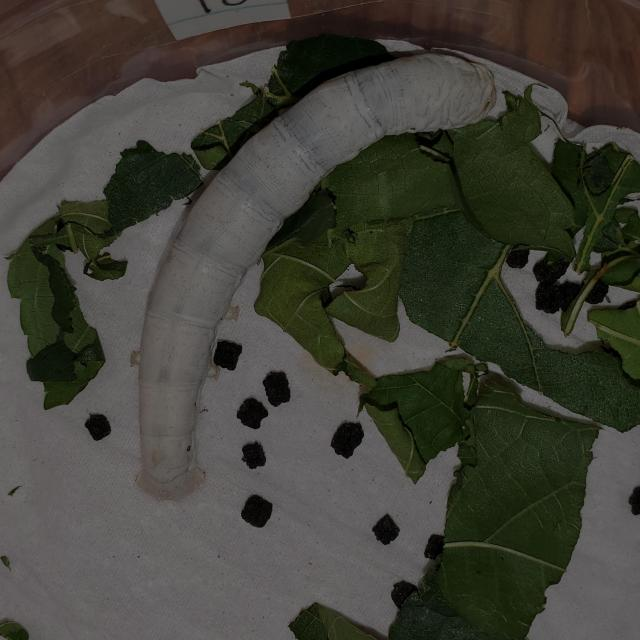Healthy: (89, 39, 550, 532)
